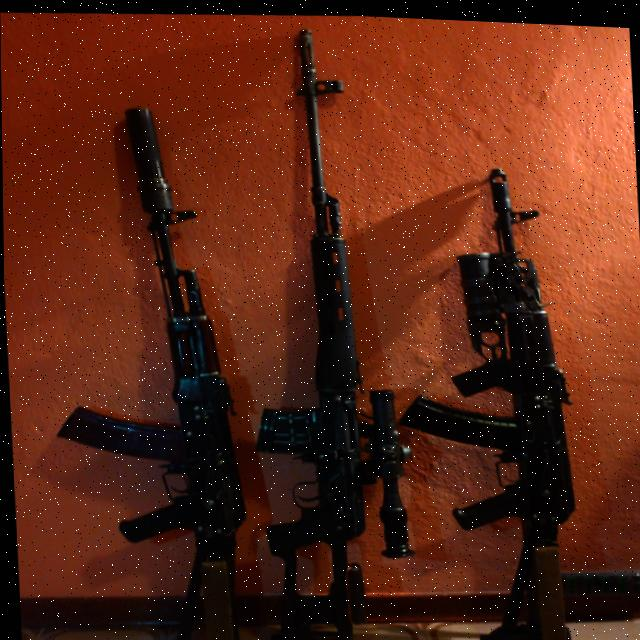firearm: (36, 96, 253, 640), (228, 19, 415, 640), (385, 155, 583, 640)
